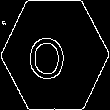O_N: (36, 29, 74, 81)
